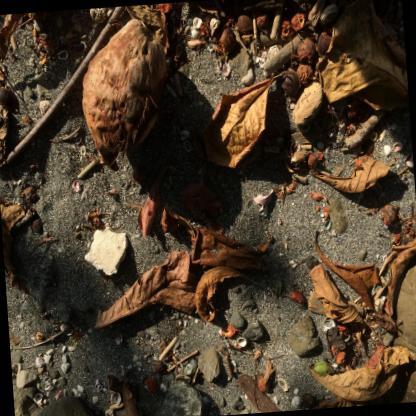Waste: (84, 223, 127, 275)
